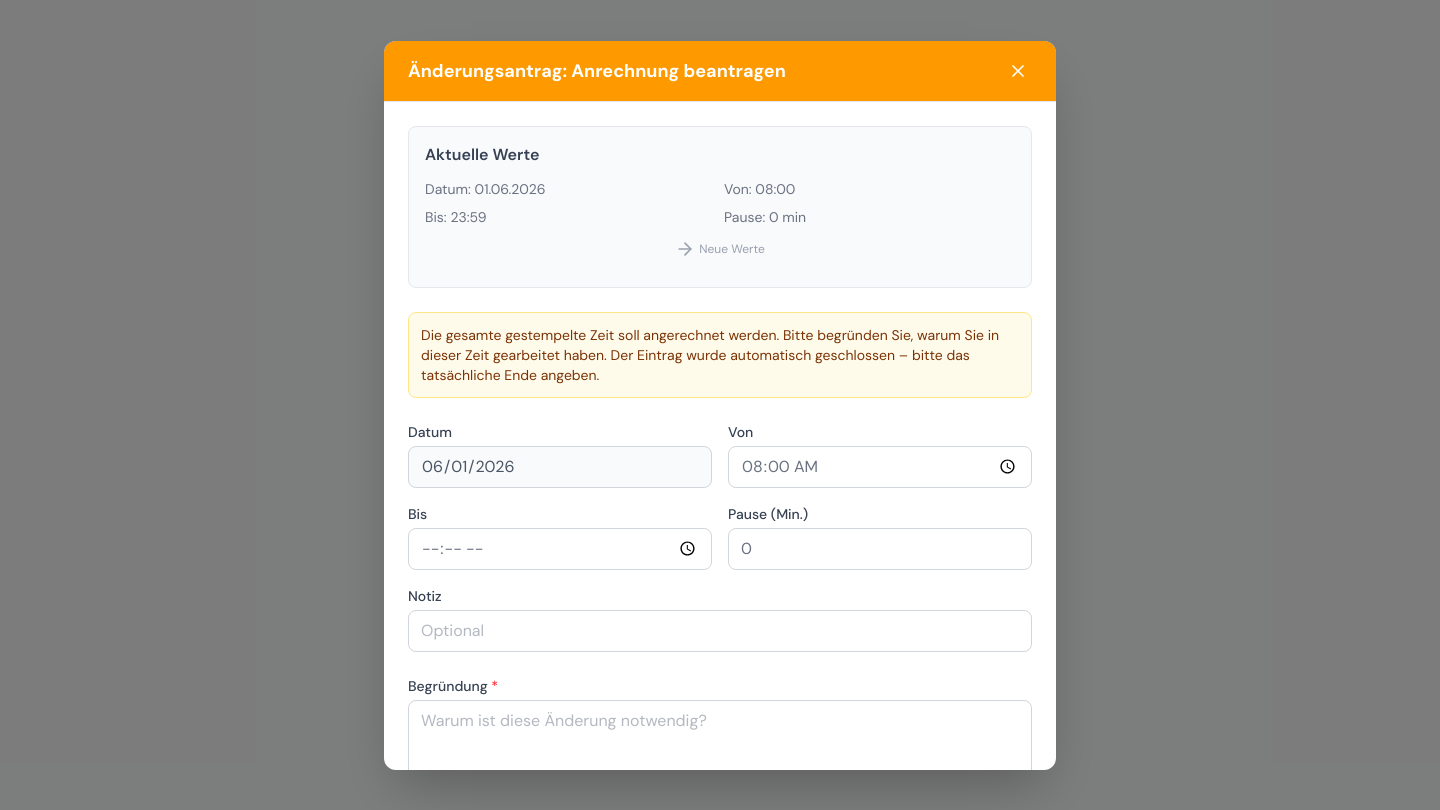
ChangeRequestForm — Anrechnung beantragen (Spec P21) › ohne Blöcke (wirksames Ende 23:59) bleibt ein 23:59 kein tatsächliches Ende
Type "23:59" into the time field labelled "Bis". click: (560, 548)
box: [408,528,712,570]
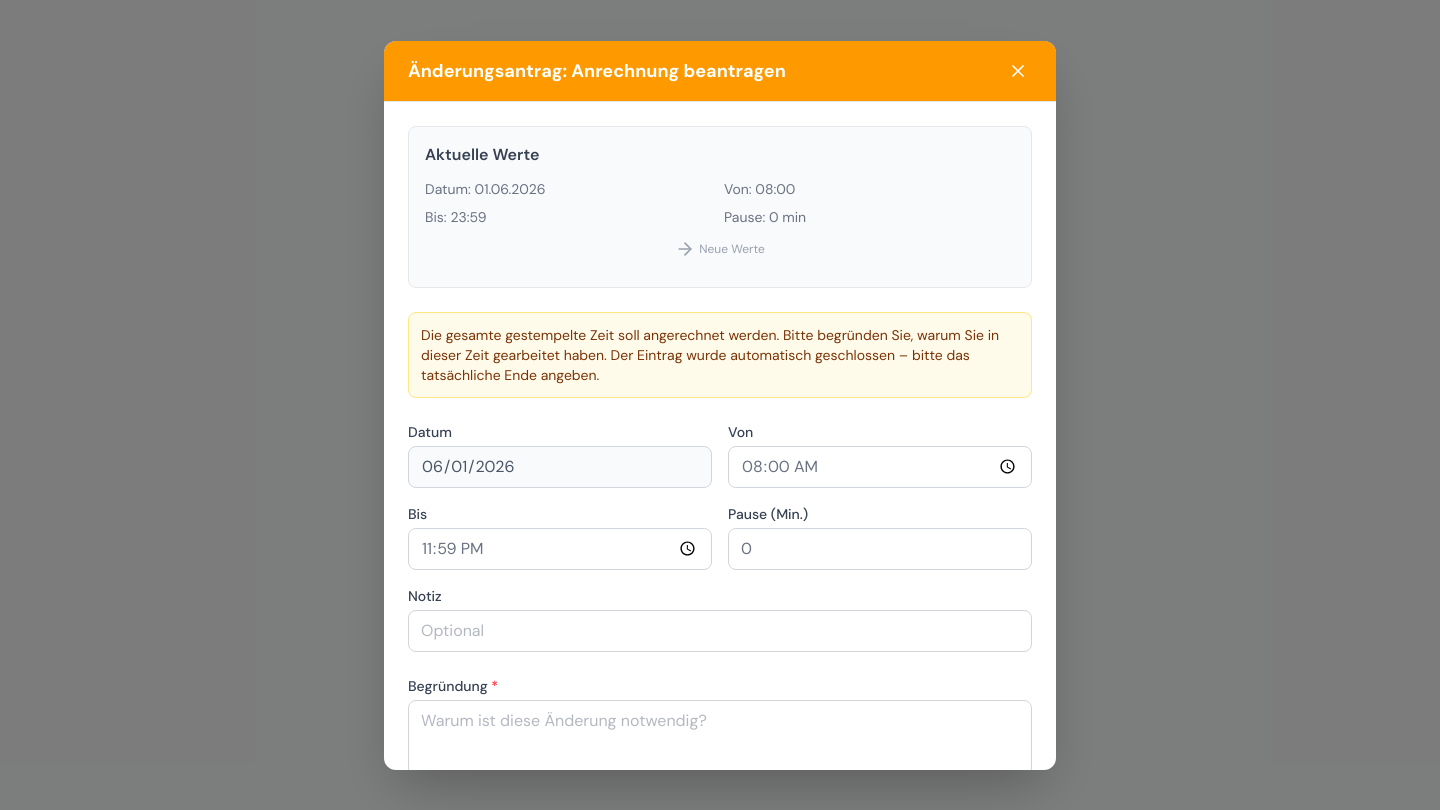
Type "Vergessen zu stempeln" into the text box with placeholder "Warum ist diese Änderung notwendig?". click: (720, 744)
box: [408,700,1032,790]
(page scrolled)
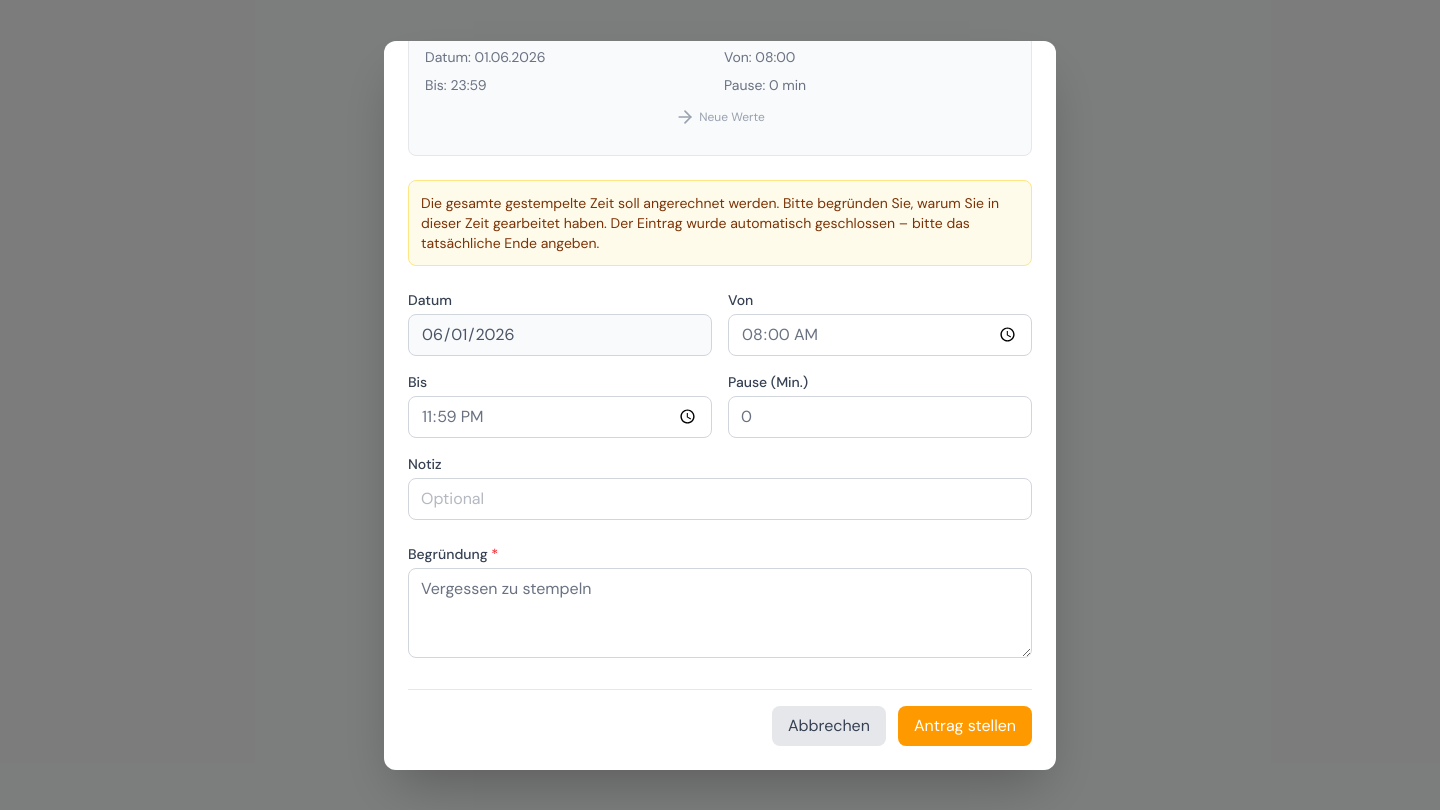
Click the button "Antrag stellen". click: click(965, 726)
box: [898,706,1032,746]
(page scrolled)
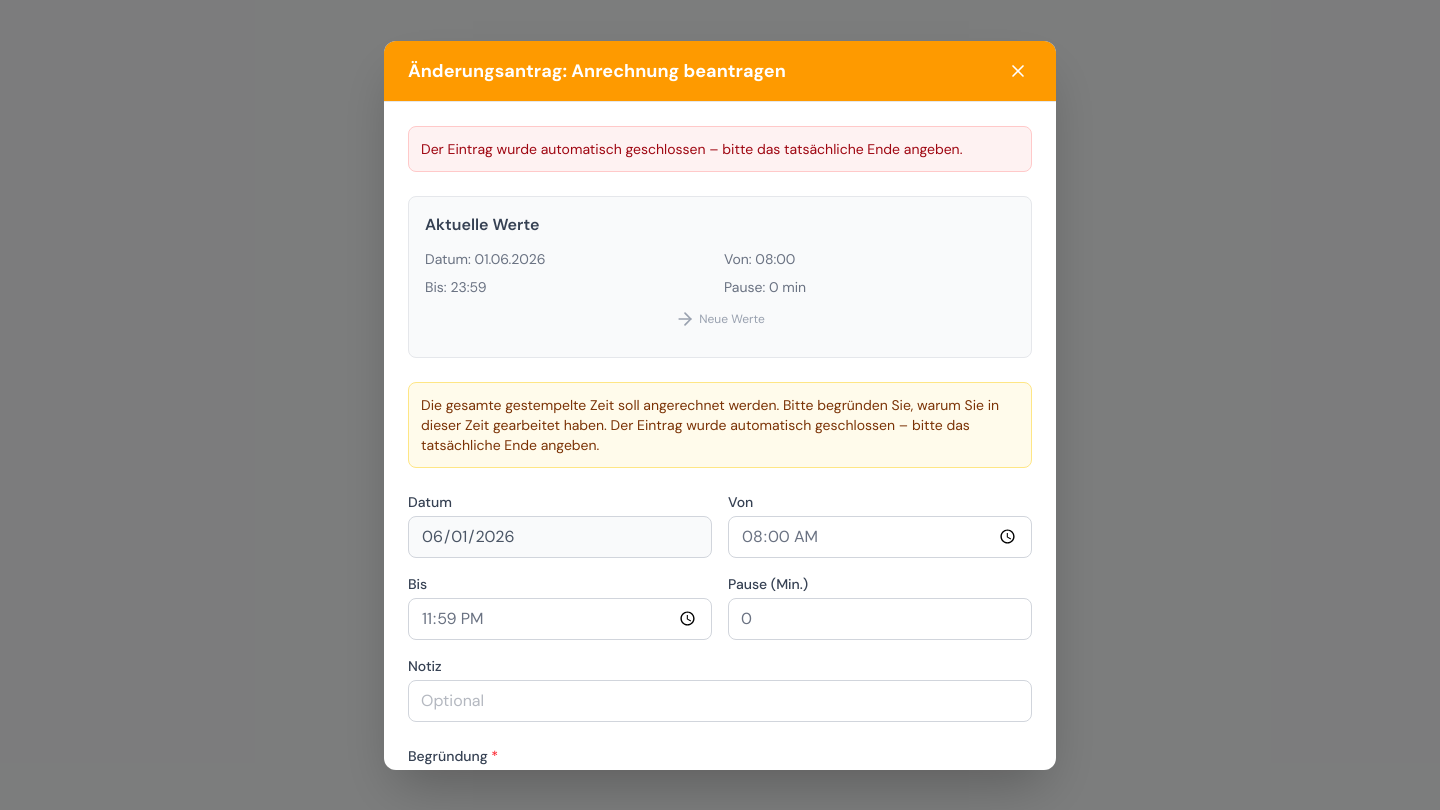
Check: the text "Der Eintrag wurde automatisch geschlossen – bitte das tatsächliche Ende angeben." is shown, box [421,138,1019,158]
